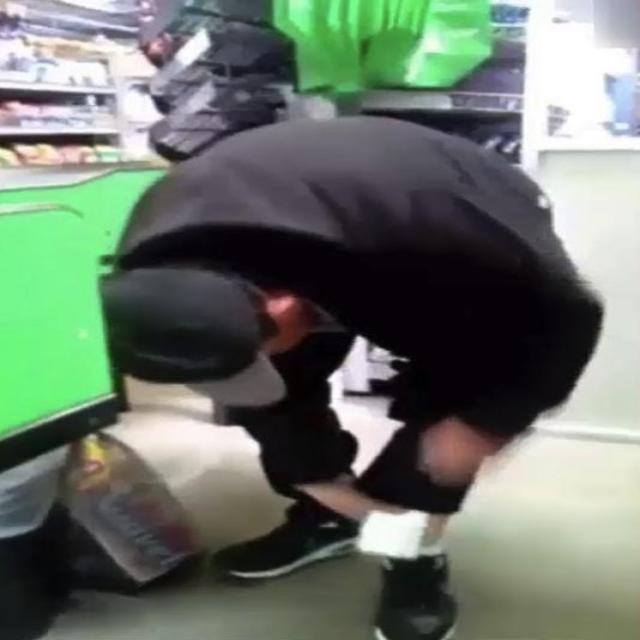Shoplifting: (81, 88, 602, 640)
